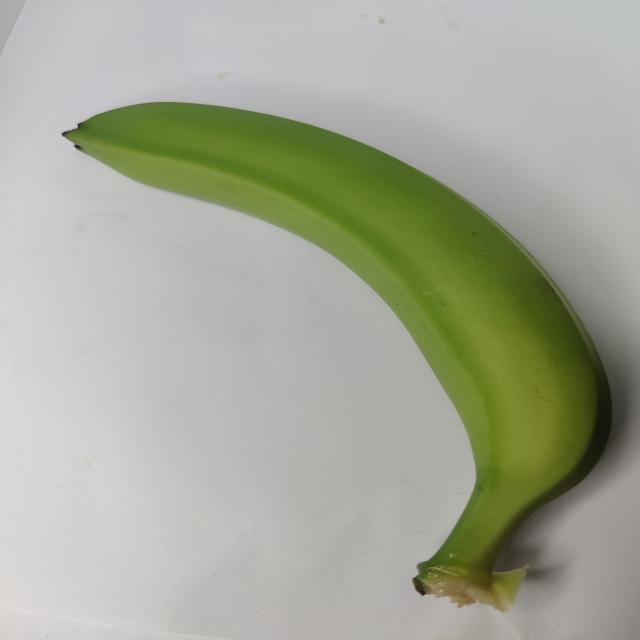raw: (58, 75, 617, 615)
